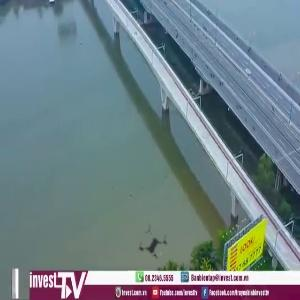drone: (121, 211, 191, 281)
